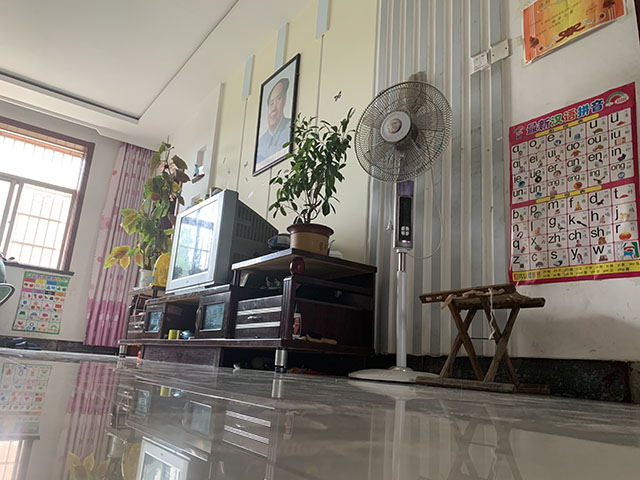cabinet: (118, 247, 379, 376)
curtain: (82, 141, 160, 348)
stool: (414, 282, 547, 396)
